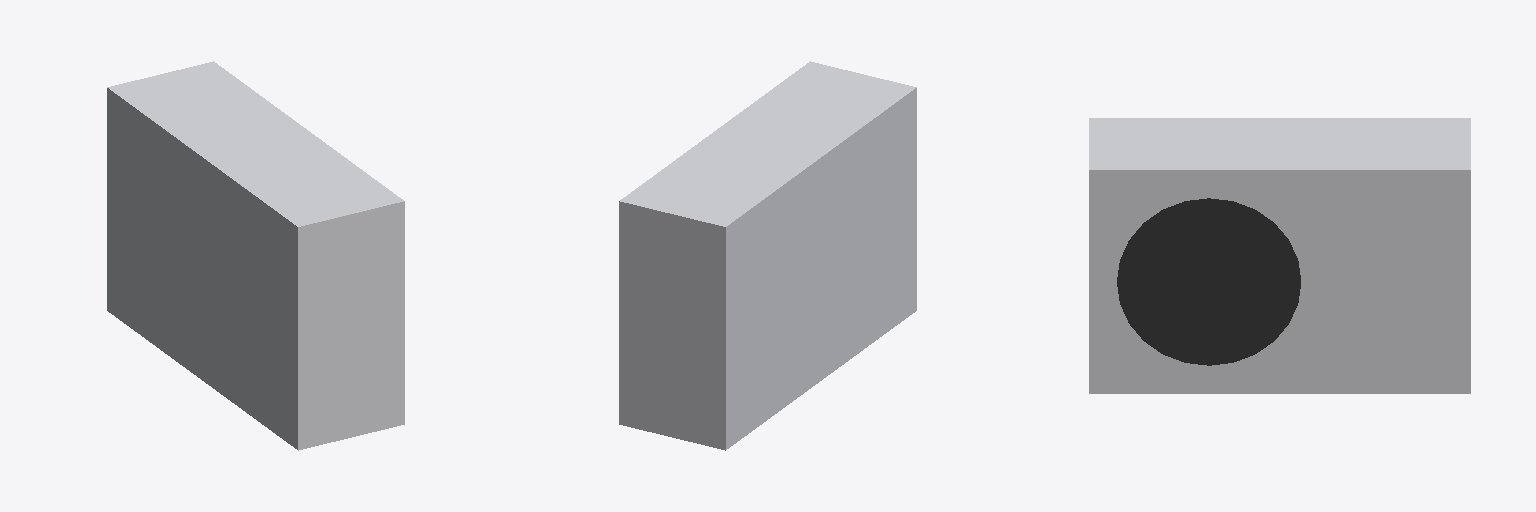
Rendered from detail_002.obj.
3 views of the same model, side by side, from view 1: azimuth 30°, elevation 25°; view 2: azimuth 150°, elevation 25°; view 3: azimuth 270°, elevation 25° (orthographic).
Visible parts, largest first — view 1: detail_002; view 2: detail_002; view 3: detail_002.
Boxes of the visible parts, <box> form: detail_002: <box>107,61,404,450</box>; detail_002: <box>619,61,916,450</box>; detail_002: <box>1089,118,1470,393</box>.
Size of the model in its own units: 0.1 by 0.2 by 0.31.